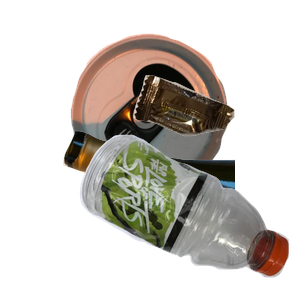glass: (60, 128, 300, 300)
metal: (68, 31, 288, 211)
plastic: (77, 132, 300, 300)
trash: (131, 73, 300, 202)
